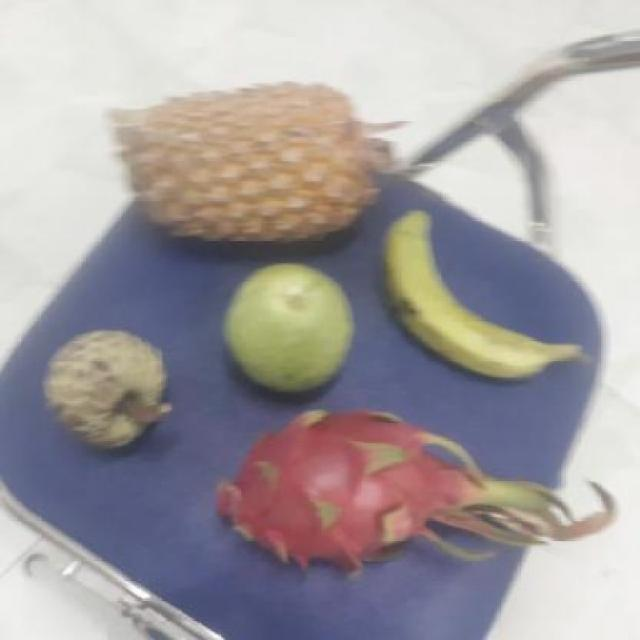dragon fruit: (208, 410, 470, 575)
guava: (219, 263, 353, 399)
sugar apple: (43, 330, 169, 448)
